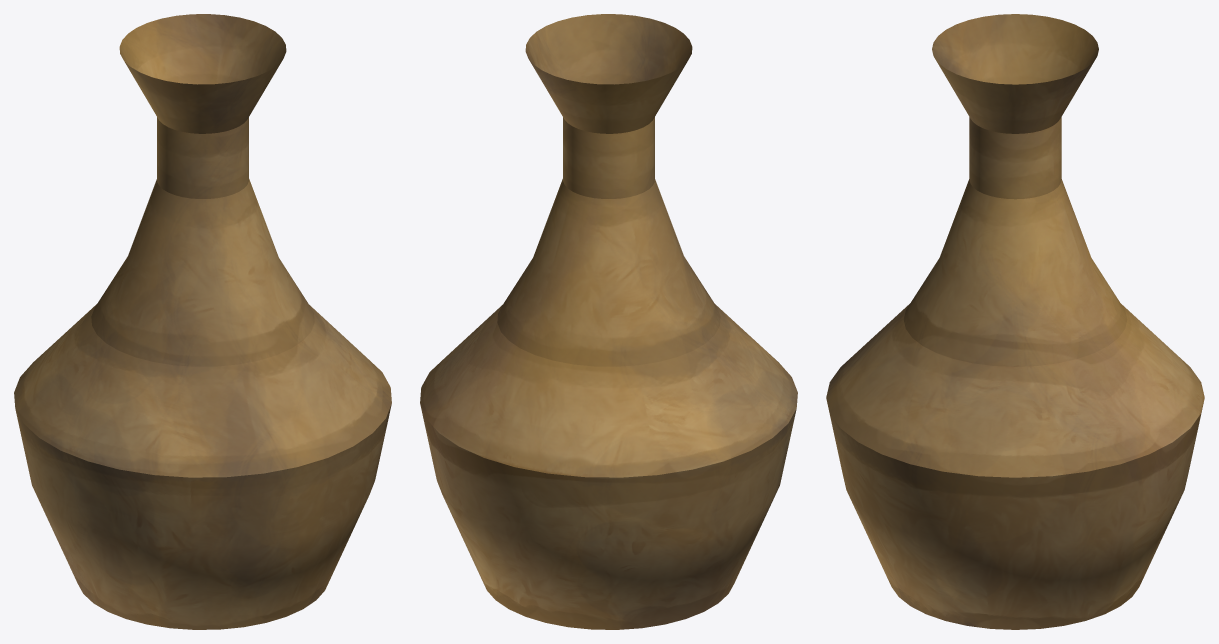
File: vase.glb
3 views of the same model, side by side, from view 1: azimuth 30°, elevation 25°; view 2: azimuth 150°, elevation 25°; view 3: azimuth 270°, elevation 25° (orthographic).
Visible parts, largest first — view 1: Vase_low_poly; view 2: Vase_low_poly; view 3: Vase_low_poly.
Part boxes in pixels (x1,y1,x2,y2): Vase_low_poly: [14, 14, 391, 629]; Vase_low_poly: [420, 14, 797, 629]; Vase_low_poly: [826, 14, 1204, 629].
Size of the model in its own units: 2.2 by 3.37 by 2.2.
Materials: 1 (1 with a texture image).
